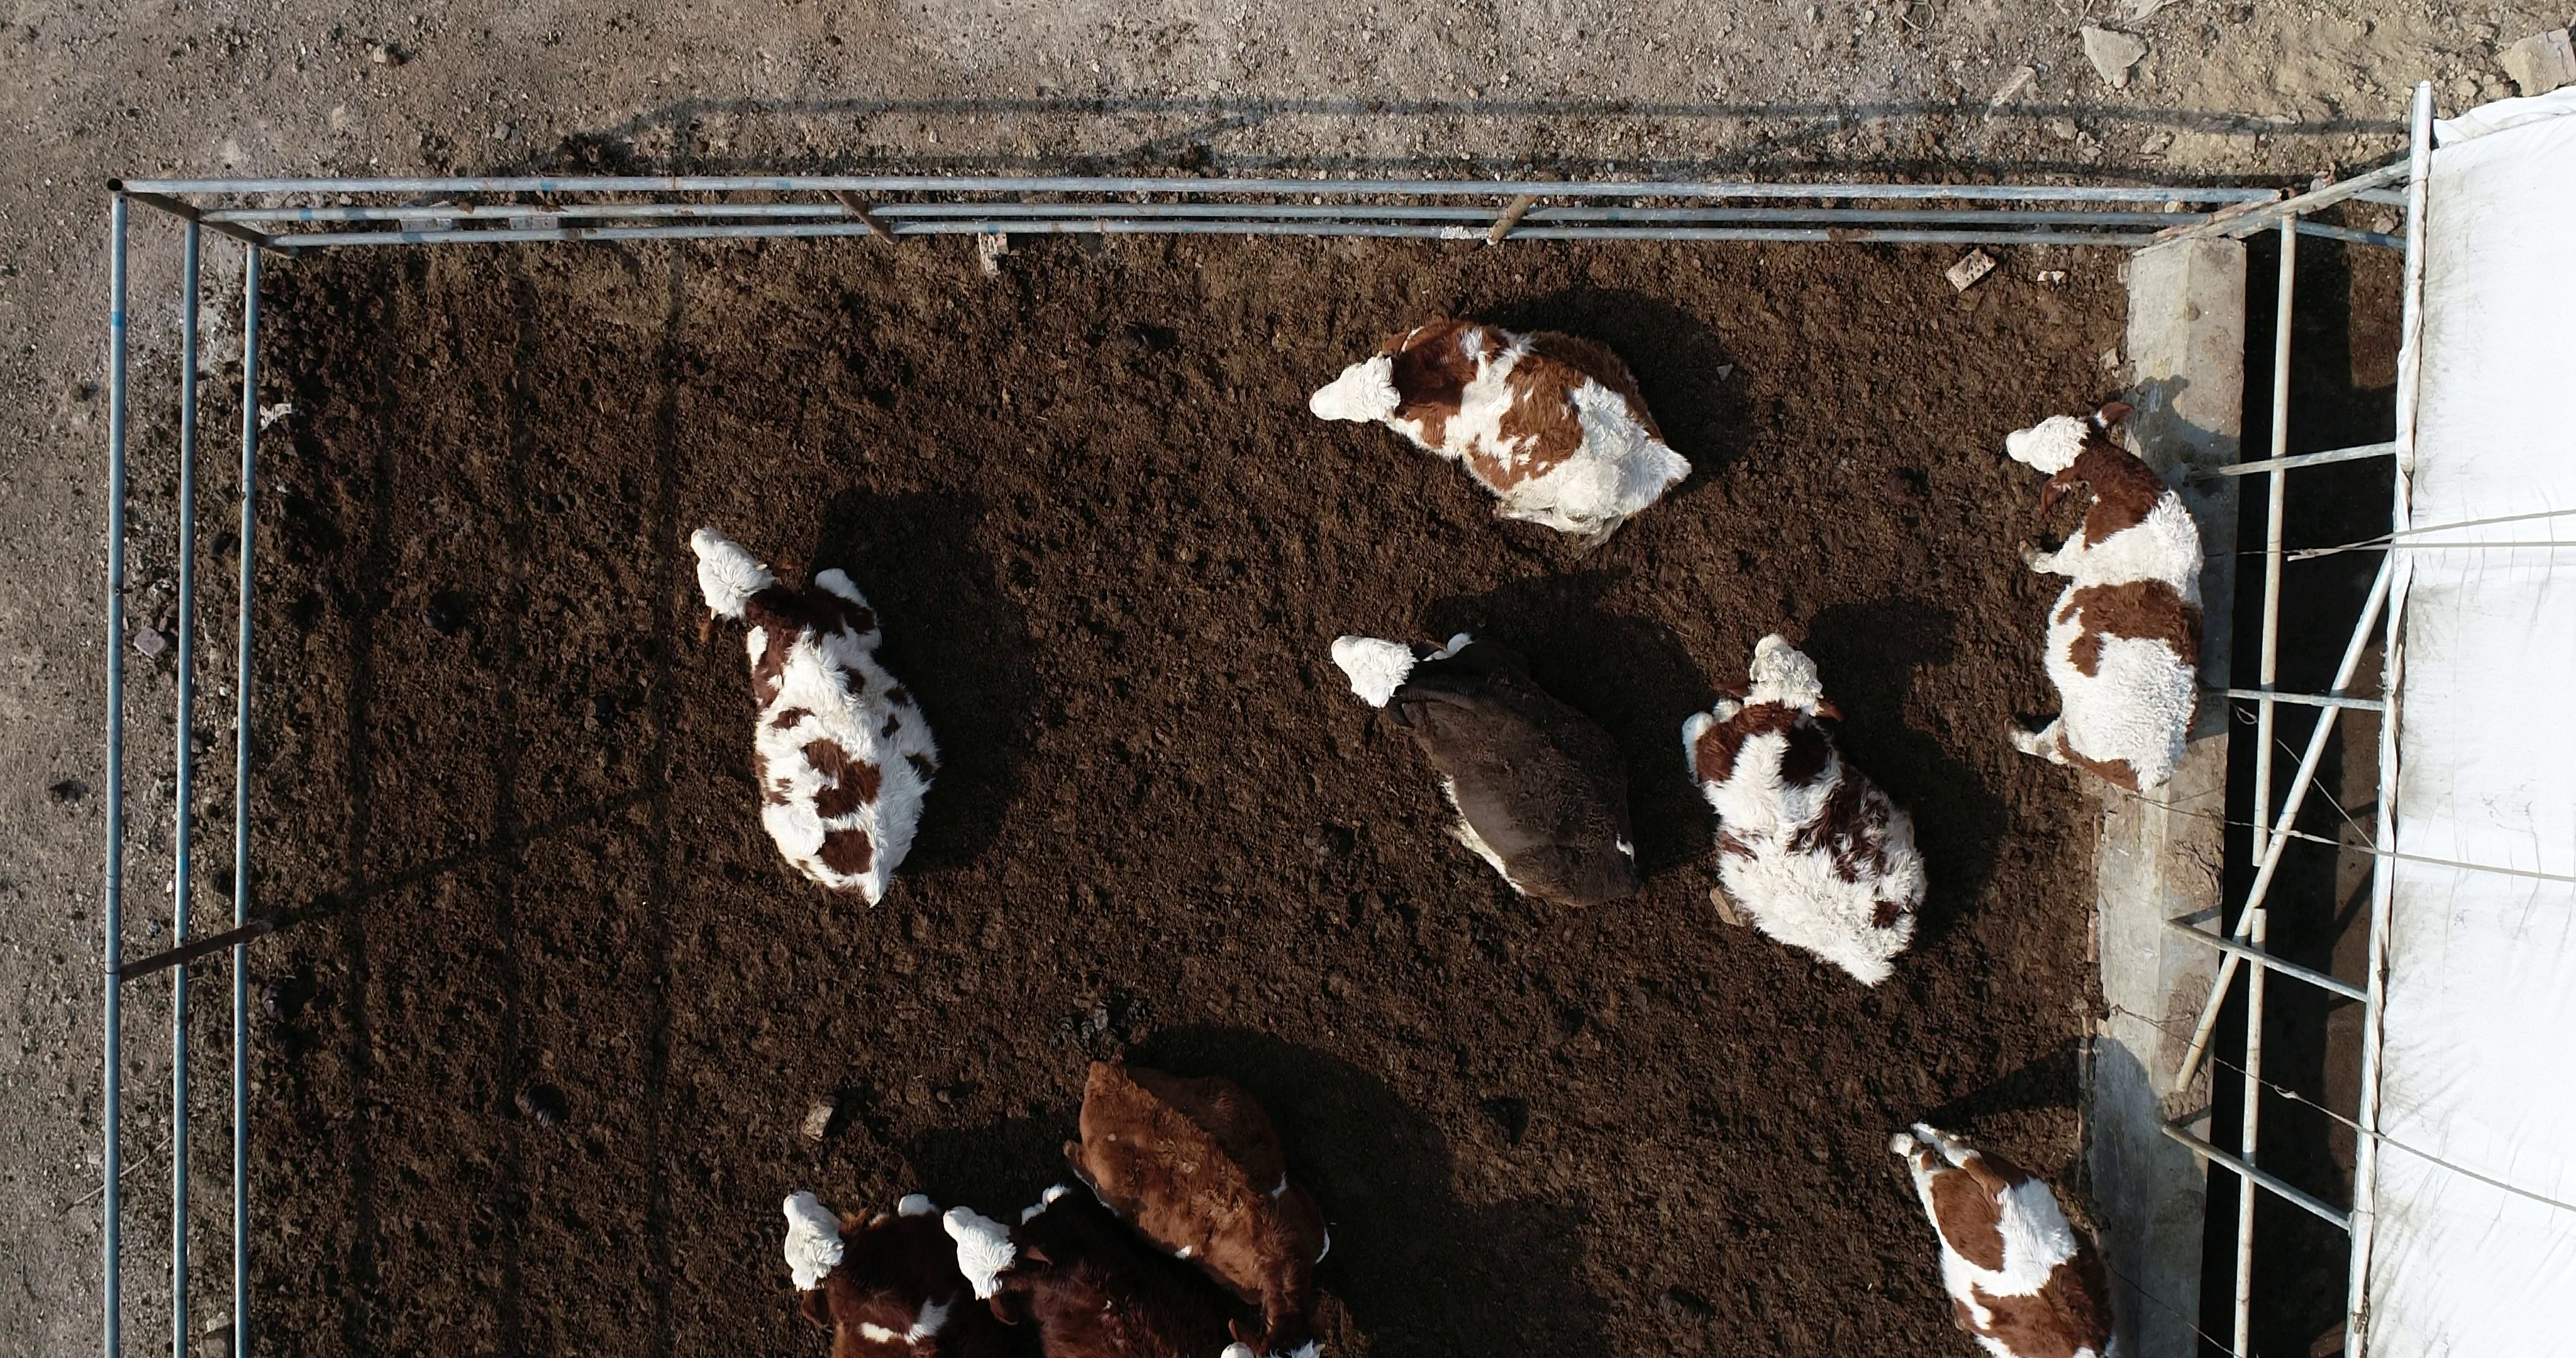cattle: (779, 578, 1211, 924), (1605, 540, 2027, 830), (1114, 496, 1470, 765)
